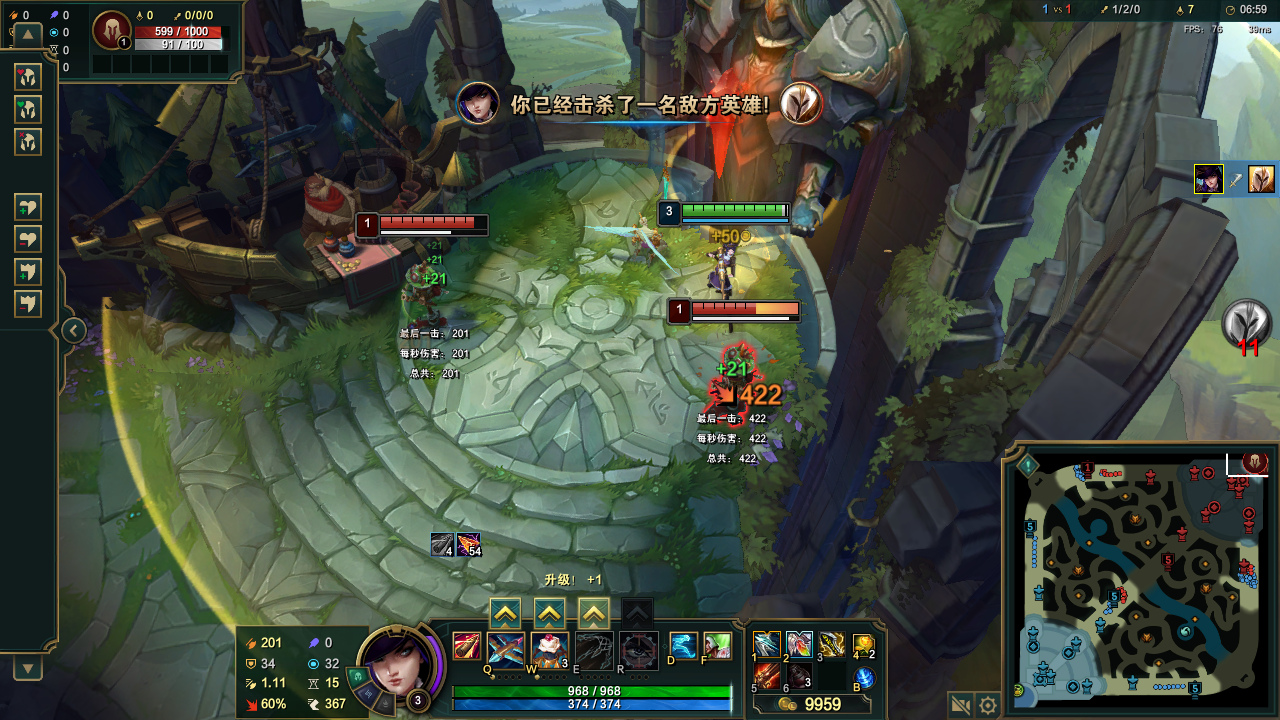DFYX: (379, 214, 495, 231), (691, 302, 809, 318)
